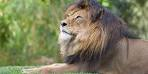lion: (51, 2, 142, 74)
